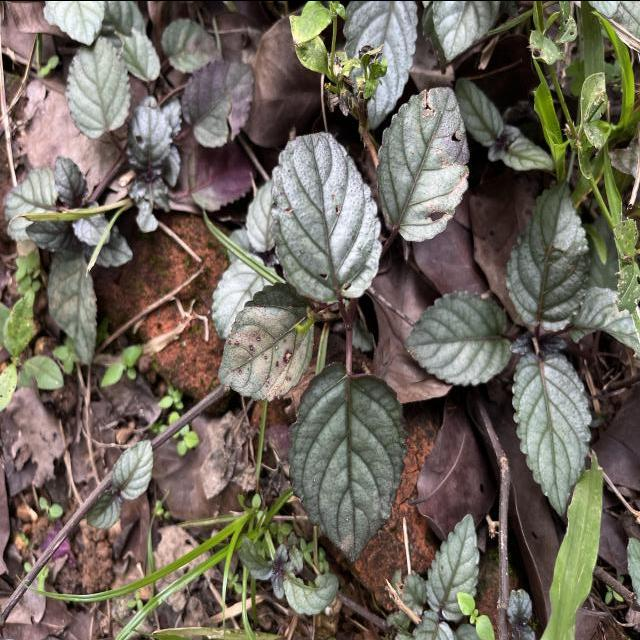Hemigraphis colorata: (284, 357, 414, 566), (266, 129, 386, 312), (372, 83, 473, 246), (508, 343, 596, 518), (502, 176, 594, 336), (216, 276, 318, 404), (401, 286, 511, 390), (63, 33, 134, 139), (422, 509, 482, 622), (108, 436, 156, 502), (82, 488, 124, 533)
